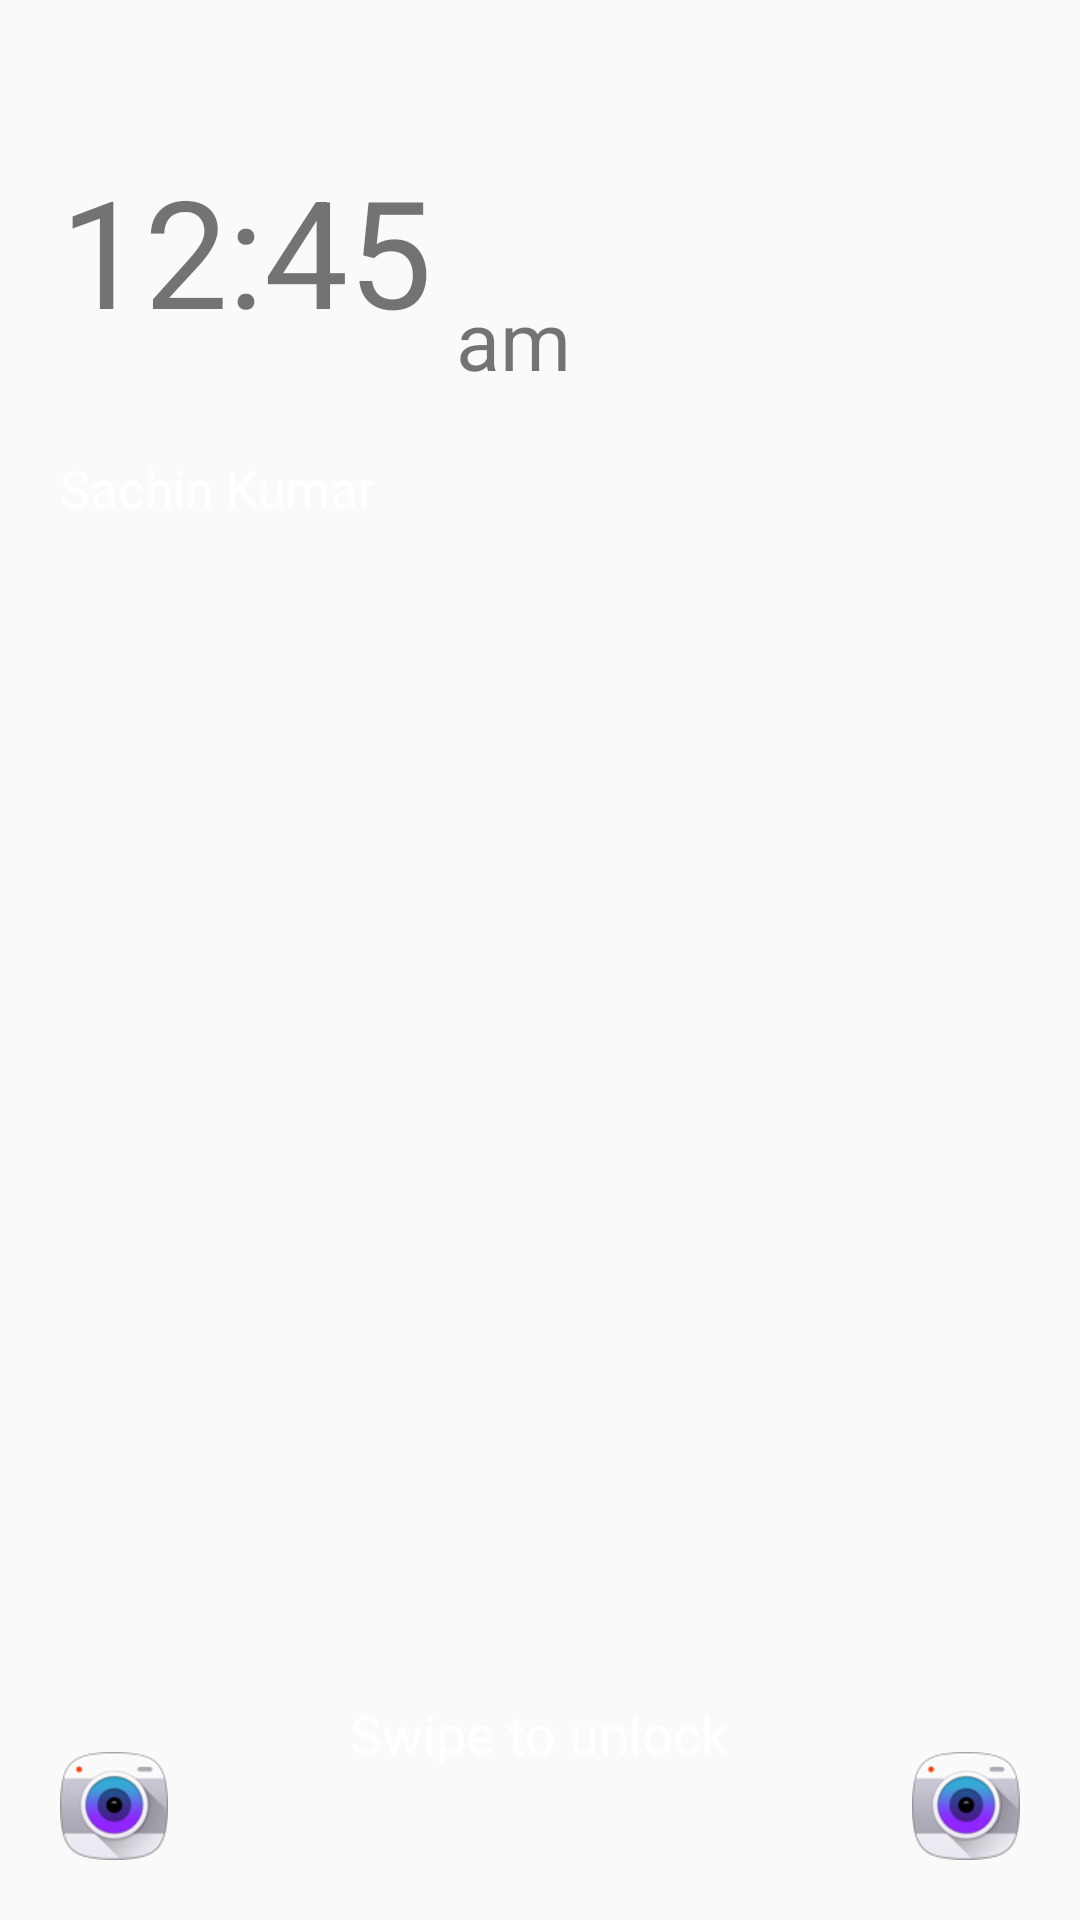

Locate icon controls on the screen. Image size 1080 x 1920, boxes as (x1, y1, x2, y2).
camera: (60, 1752, 168, 1860), (912, 1752, 1020, 1860)
